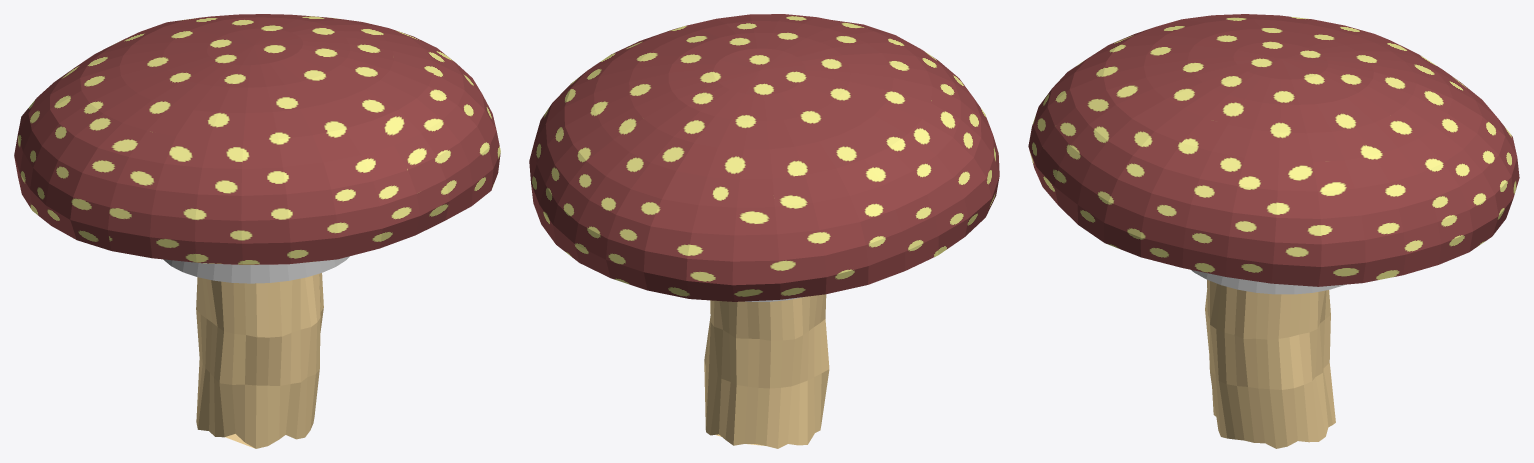
Rendered from mushroom1.glb.
3 views of the same model, side by side, from view 1: azimuth 30°, elevation 25°; view 2: azimuth 150°, elevation 25°; view 3: azimuth 270°, elevation 25° (orthographic). The views are drawn at different scales.
Parts seen in each view (by area): view 1: Cylinder; view 2: Cylinder; view 3: Cylinder.
Part boxes in pixels (x1,y1,x2,y2): Cylinder: (14,14,500,448); Cylinder: (529,14,999,448); Cylinder: (1028,14,1519,448).
Size of the model in its own units: 0.8775 by 0.7431 by 0.8925.
Materials: 3 (1 with a texture image).
